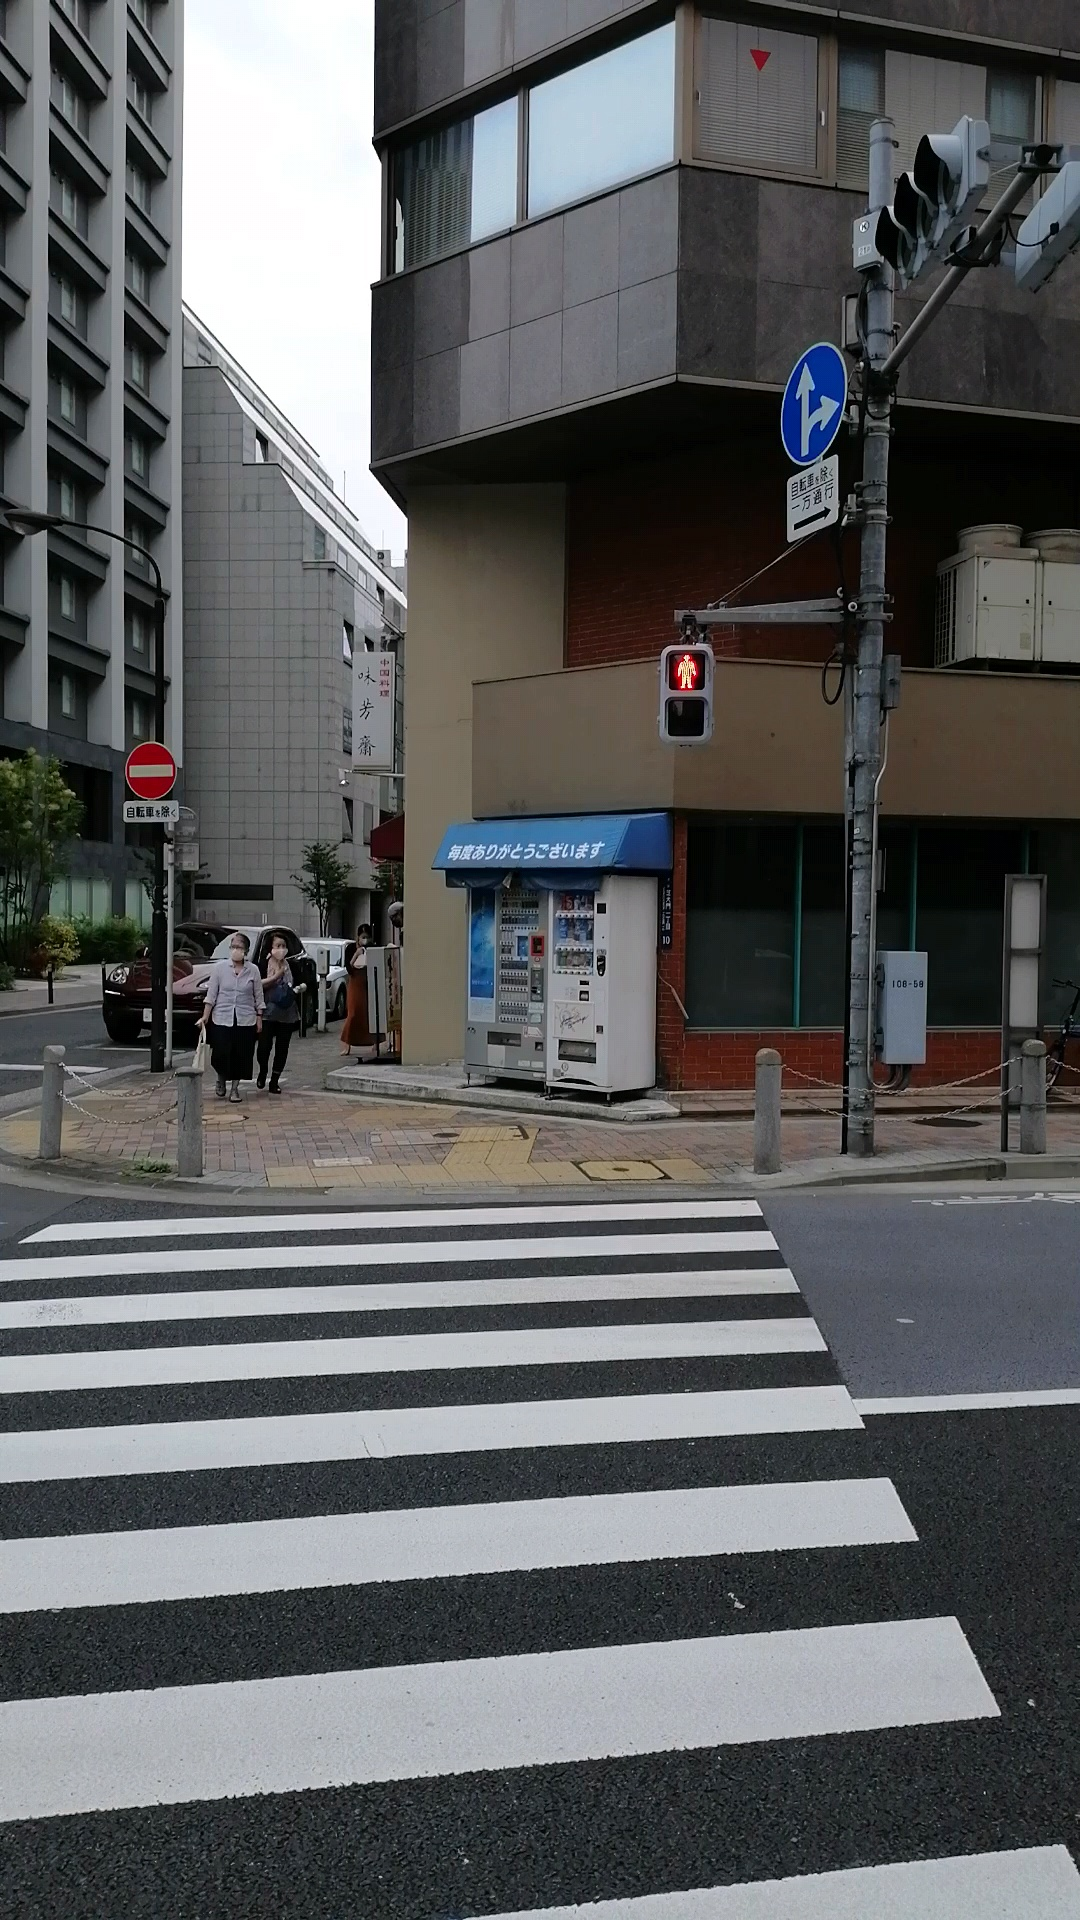red: (657, 642, 712, 744)
